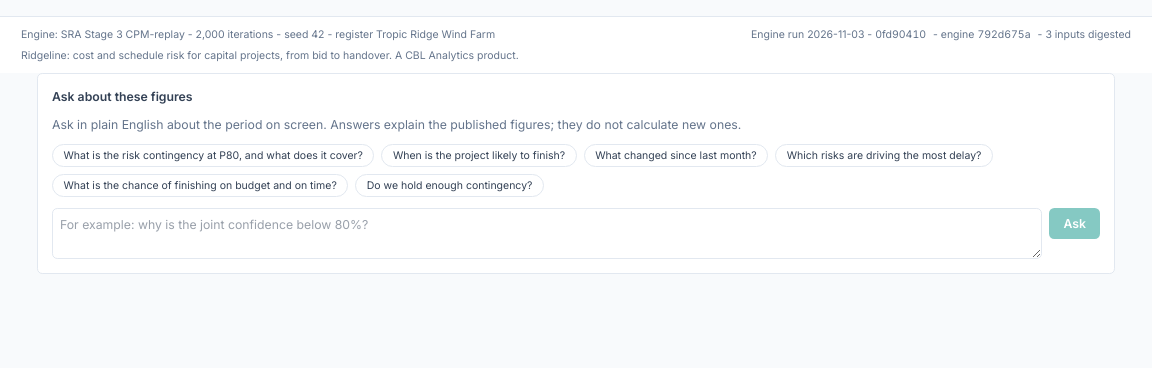
Scenario: the Ask box › shows markdown as plain text
Type "What?" into the text box named "Your question" at (547, 233), box [52,208,1042,258]
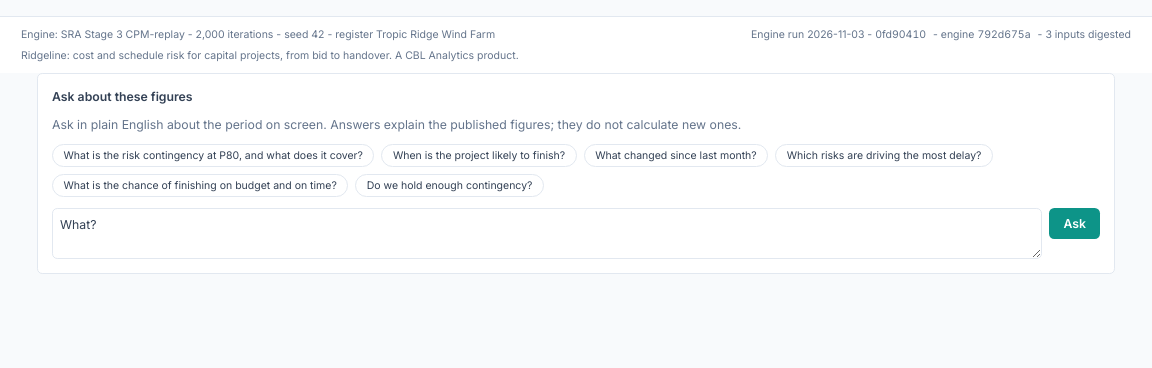
Click the button "Ask" at (1075, 223), box [1050,208,1100,239]
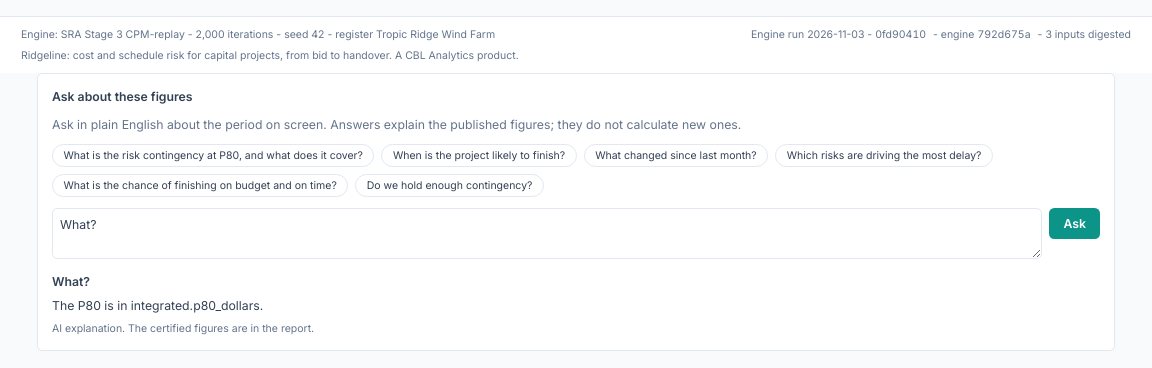
Check: the text "The P80 is in integrated.p80_dollars." is shown, box [52,298,263,313]
